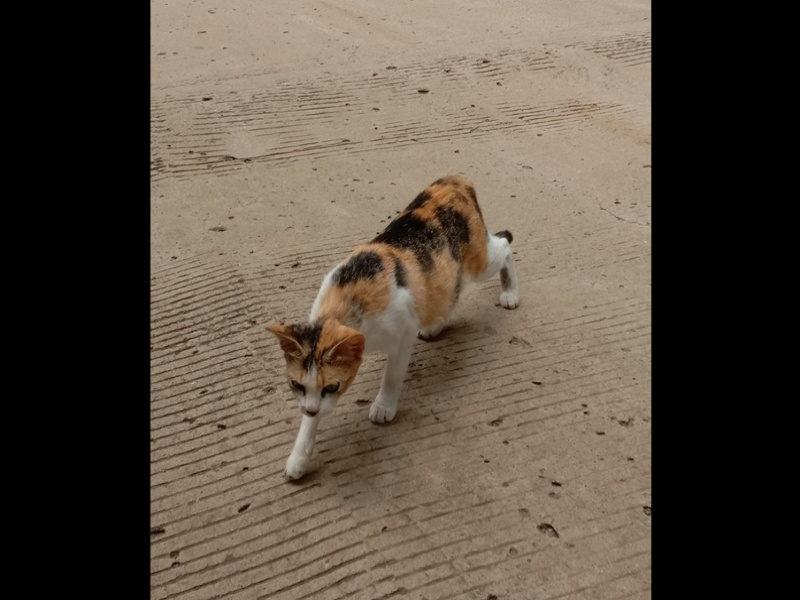cat: (259, 166, 521, 490)
